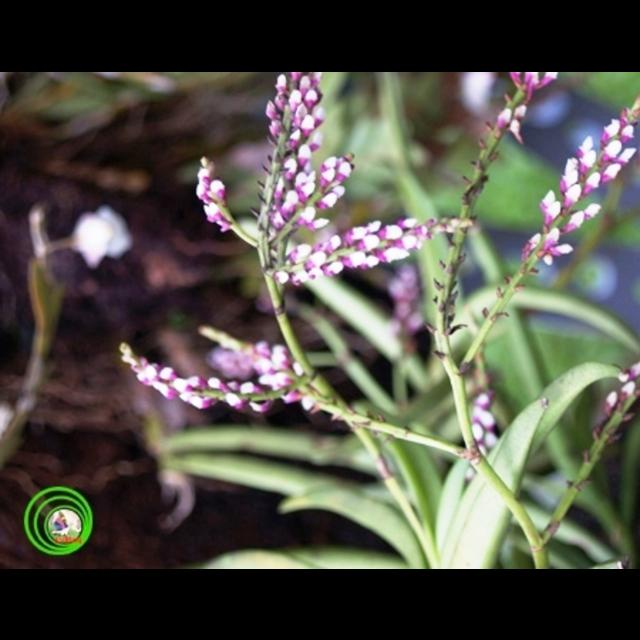Flower: (45, 202, 138, 268)
